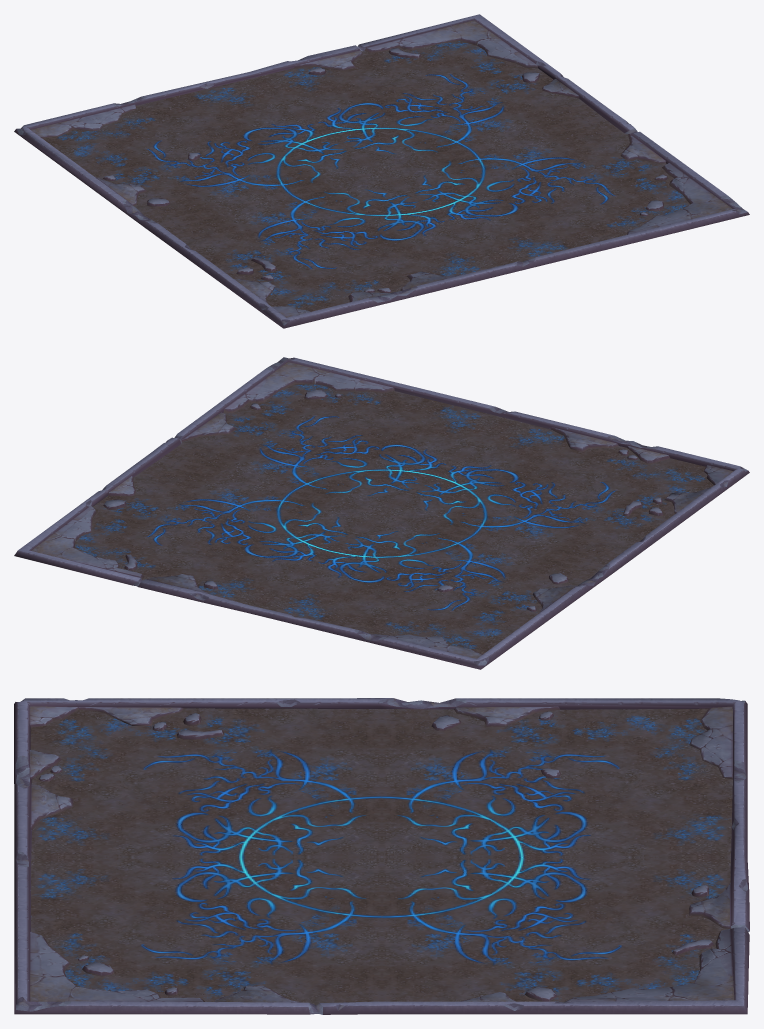
Rendered from SleepingGarden_Floor_Center_04.fbx.
The picture shows the model from 3 angles, top to bottom: view 1: azimuth 30°, elevation 25°; view 2: azimuth 150°, elevation 25°; view 3: azimuth 270°, elevation 25°; orthographic projection. The views are drawn at different scales.
Visible parts, largest first — view 1: SleepingGarden_Floor_Center_04; view 2: SleepingGarden_Floor_Center_04; view 3: SleepingGarden_Floor_Center_04.
Part boxes in pixels (bbox=[...]): SleepingGarden_Floor_Center_04: bbox=[14, 14, 749, 328]; SleepingGarden_Floor_Center_04: bbox=[14, 357, 749, 669]; SleepingGarden_Floor_Center_04: bbox=[14, 698, 749, 1014].
Bounding box in the file's own units: 19.01 × 0.208 × 19.
Materials: 4 (4 with a texture image).
